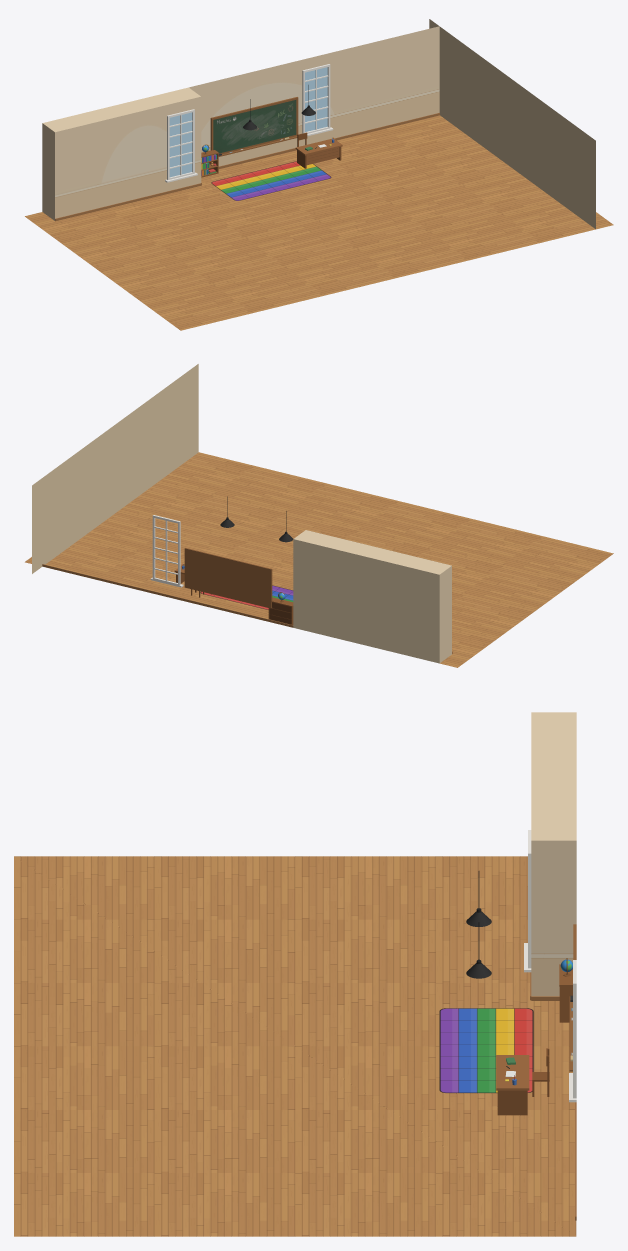
File: classroom.glb
The picture shows the model from 3 angles, top to bottom: view 1: azimuth 30°, elevation 25°; view 2: azimuth 150°, elevation 25°; view 3: azimuth 270°, elevation 25°; orthographic projection. The views are drawn at different scales.
Visible parts, largest first — view 1: Floor, Wall_Back, Wall_Right, Wall_Left, ChalkboardFace, Rug, WindowGlass_Left, WindowGlass_Right, ChalkboardFrame, Baseboard_Back, Baseboard_LeftFront; view 2: Floor, Wall_Left, Wall_Right, ChalkboardFrame, Baseboard_Back; view 3: Floor, Wall_Left, Rug, DeskTop, DeskLeg_R.
Boxes of the visible parts, box(x1,y1,x2,y2) form: Floor: box(25, 115, 613, 330); Wall_Back: box(189, 26, 439, 166); Wall_Right: box(429, 19, 595, 228); Wall_Left: box(42, 87, 201, 220); ChalkboardFace: box(213, 100, 296, 153); Rug: box(211, 161, 331, 200); WindowGlass_Left: box(169, 112, 192, 177); WindowGlass_Right: box(305, 67, 327, 131); ChalkboardFrame: box(210, 97, 298, 154); Baseboard_Back: box(218, 113, 439, 168); Baseboard_LeftFront: box(55, 183, 201, 221); Floor: box(25, 452, 613, 667); Wall_Left: box(293, 530, 451, 663); Wall_Right: box(32, 364, 198, 573); ChalkboardFrame: box(184, 548, 272, 607); Baseboard_Back: box(42, 564, 292, 627); Floor: box(14, 856, 576, 1236); Wall_Left: box(531, 712, 576, 996); Rug: box(439, 1008, 533, 1092); DeskTop: box(496, 1055, 529, 1090); DeskLeg_R: box(497, 1090, 527, 1115).
Bounding box in the file's own units: 24 × 4.7 × 16.
48 materials, 8 textured.
